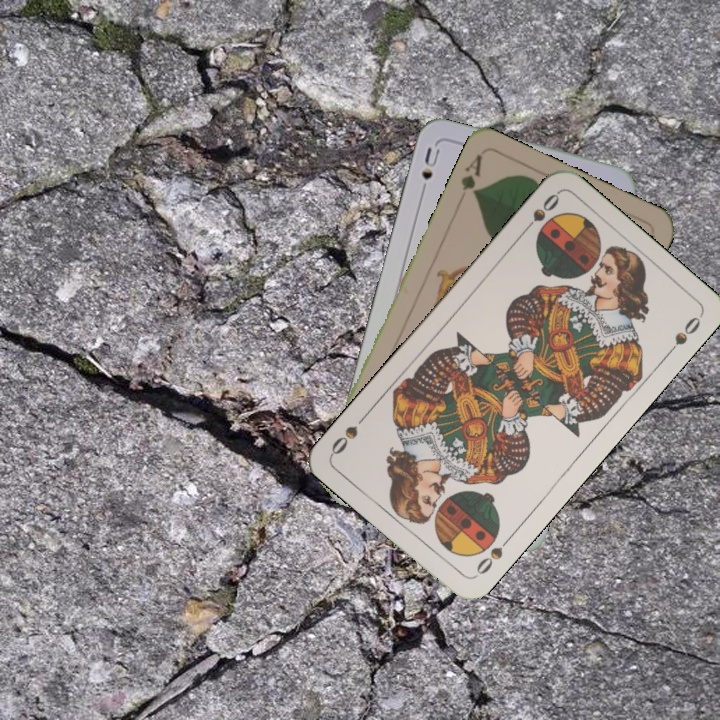GA: (457, 150, 486, 199)
SO: (517, 189, 563, 237), (470, 532, 514, 580)
SU: (415, 143, 443, 200)
